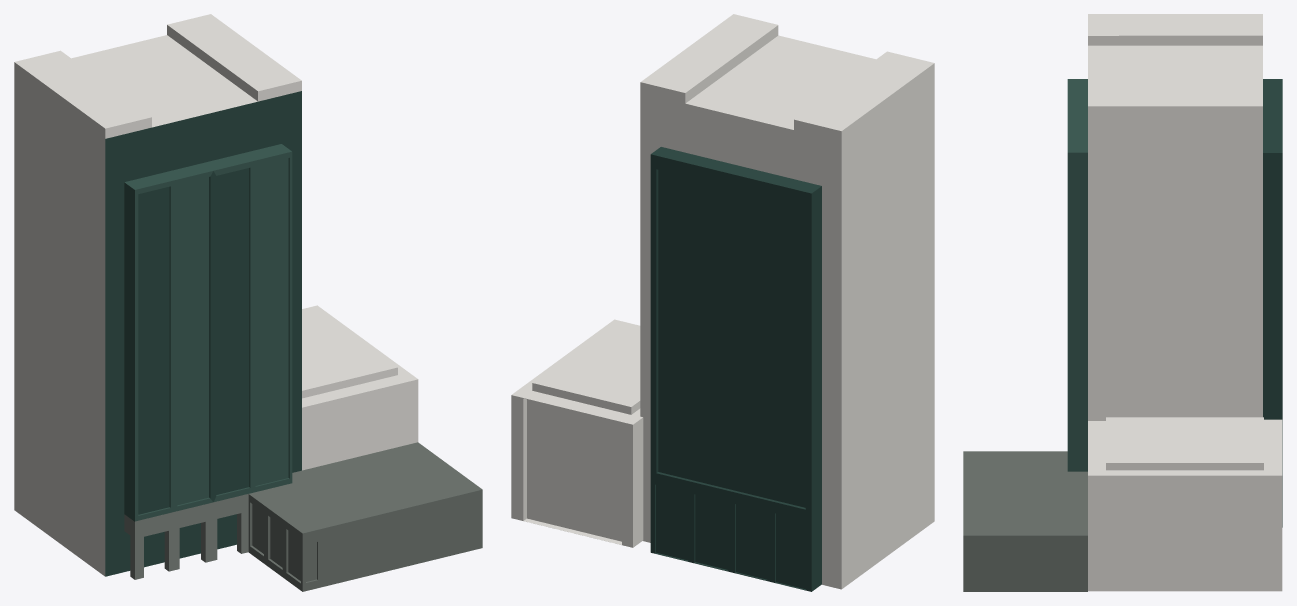
Rendered from banco_bogota.glb.
3 views of the same model, side by side, from view 1: azimuth 30°, elevation 25°; view 2: azimuth 150°, elevation 25°; view 3: azimuth 270°, elevation 25° (orthographic). The views are drawn at different scales.
Parts seen in each view (by area): view 1: Cube, Cube.001, Cube.006, Cube.002, Cube.009; view 2: Cube, Cube.003, Cube.002; view 3: Cube, Cube.002, Cube.006, Cube.001, Cube.003.
Boxes of the visible parts, bbox=[...] form: Cube: bbox=[14, 14, 301, 576]; Cube.001: bbox=[124, 144, 292, 521]; Cube.006: bbox=[248, 442, 482, 591]; Cube.002: bbox=[302, 305, 418, 470]; Cube.009: bbox=[124, 494, 248, 579]; Cube: bbox=[640, 14, 934, 589]; Cube.003: bbox=[650, 147, 821, 591]; Cube.002: bbox=[511, 319, 643, 547]; Cube: bbox=[1088, 14, 1262, 420]; Cube.002: bbox=[1088, 417, 1282, 591]; Cube.006: bbox=[963, 451, 1087, 591]; Cube.001: bbox=[1067, 79, 1087, 471]; Cube.003: bbox=[1263, 79, 1282, 527].
Size of the model in its own units: 6.98 by 9.55 by 6.4.
